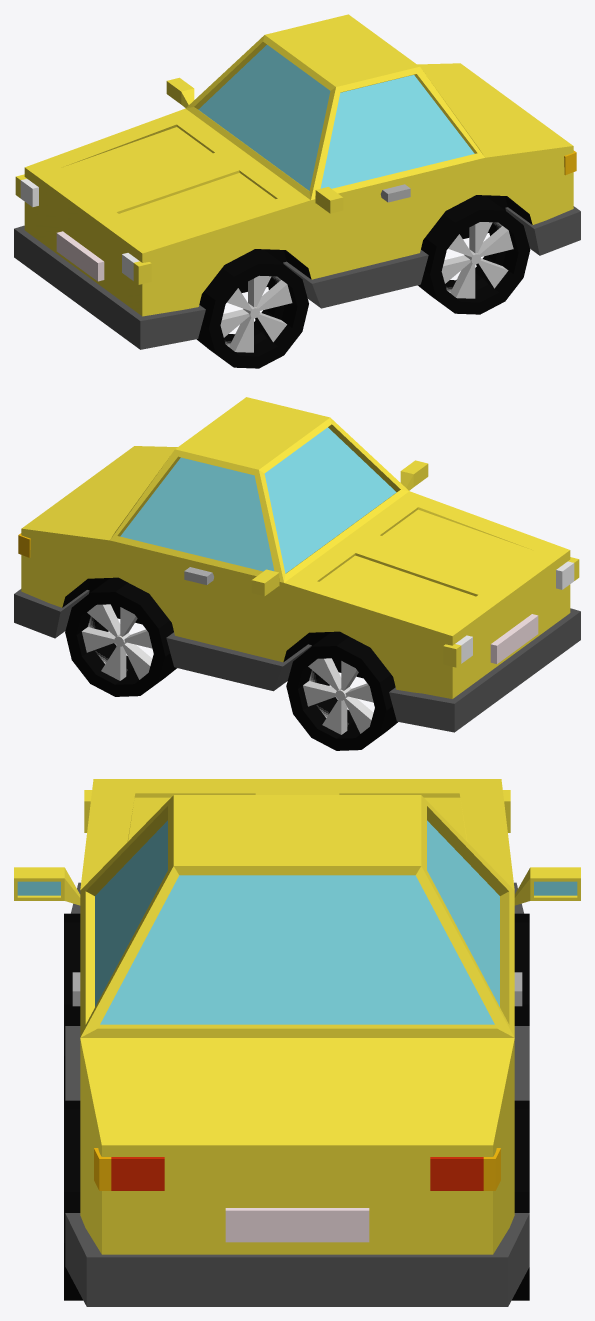
File: car2.fbx
3 renders of one model, top to bottom at view 1: azimuth 30°, elevation 25°; view 2: azimuth 150°, elevation 25°; view 3: azimuth 270°, elevation 25°, orthographic. The views are drawn at different scales.
Visible parts, largest first — view 1: Car.001; view 2: Car.001; view 3: Car.001.
Boxes of the visible parts, x1,y1,x2,y2 form: Car.001: (14, 14, 580, 368); Car.001: (14, 397, 580, 750); Car.001: (14, 779, 580, 1306).
Size of the model in its own units: 3.25 by 1.62 by 2.08.
